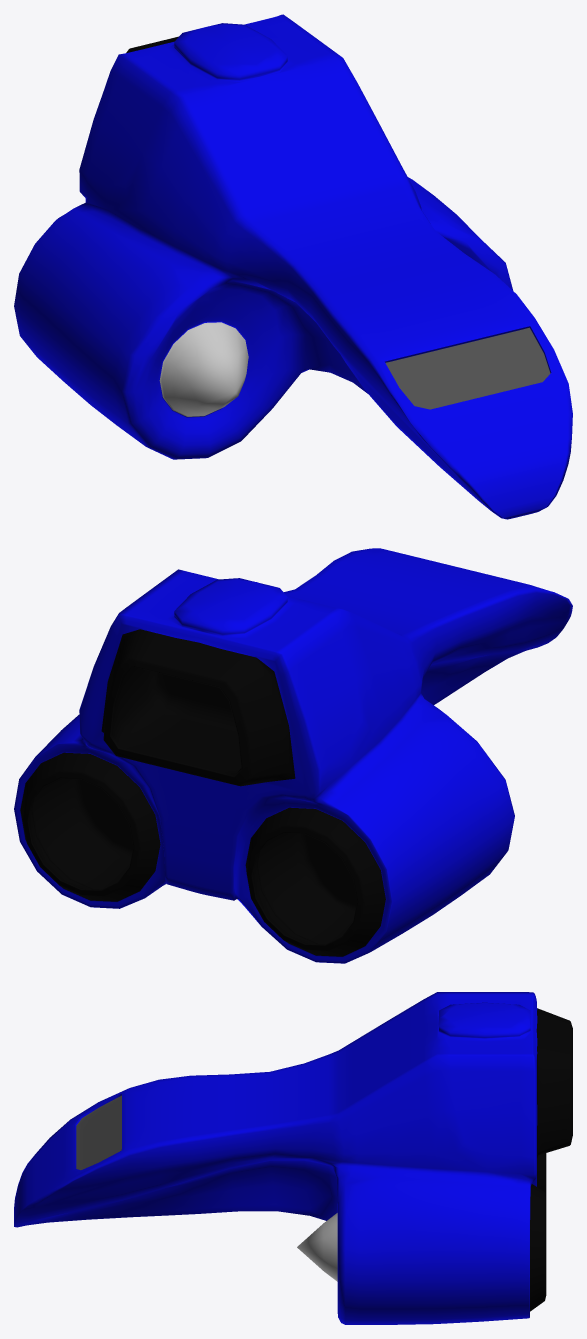
Rendered from SuperCorp2smooth.fbx.
The picture shows the model from 3 angles, top to bottom: view 1: azimuth 30°, elevation 25°; view 2: azimuth 150°, elevation 25°; view 3: azimuth 270°, elevation 25°; orthographic projection. The views are drawn at different scales.
Parts seen in each view (by area): view 1: SuperCorpShip; view 2: SuperCorpShip; view 3: SuperCorpShip.
Part boxes in pixels (x1,y1,x2,y2): SuperCorpShip: [14, 14, 572, 519]; SuperCorpShip: [14, 548, 572, 963]; SuperCorpShip: [14, 992, 572, 1324].
Bounding box in the file's own units: 3.15 × 2.48 × 4.84.
